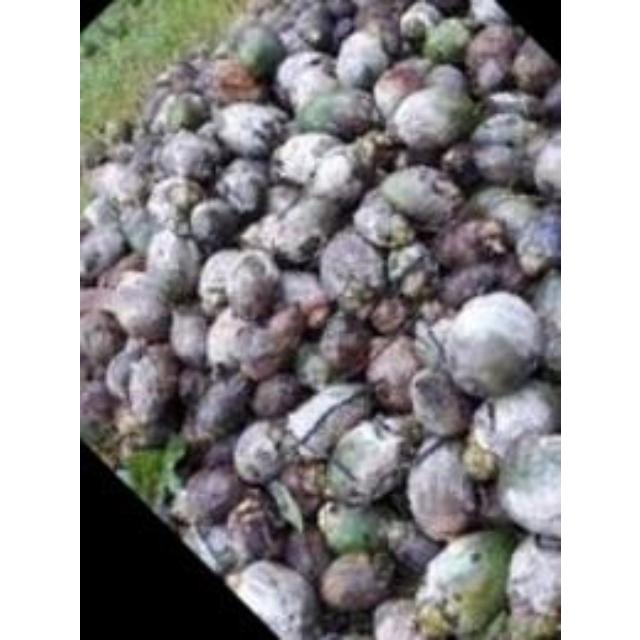damaged: (445, 290, 547, 392), (322, 417, 412, 505), (229, 560, 321, 640), (404, 439, 476, 538), (497, 432, 558, 536), (387, 84, 475, 152), (473, 386, 555, 458), (209, 306, 291, 378), (260, 193, 342, 264), (465, 112, 537, 188), (375, 164, 461, 226), (316, 230, 382, 302), (316, 552, 392, 610), (506, 536, 558, 620), (406, 370, 470, 438), (210, 100, 286, 156), (364, 336, 422, 408), (108, 276, 170, 342), (178, 466, 242, 526), (144, 230, 200, 298), (272, 132, 341, 186), (295, 91, 375, 137), (318, 503, 390, 553), (231, 420, 287, 484), (126, 352, 174, 424), (333, 31, 389, 87), (231, 23, 283, 76), (509, 37, 556, 93), (80, 226, 126, 282), (79, 308, 121, 367), (90, 159, 142, 205), (422, 17, 470, 63)
